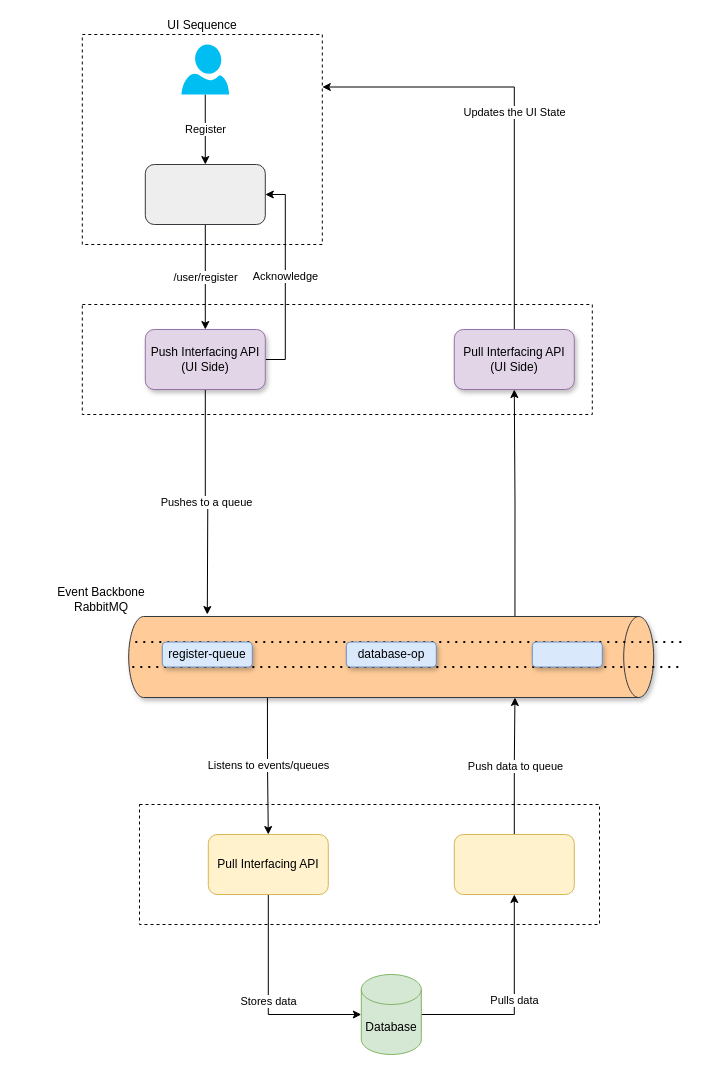
Image size: 704x1072. Some labels were removed from this diagram. The shapes that lost their labels are listed below. From the top down, each one's centre as x and y in pixels, then its label:
At point 204,69: "New User".
At point 204,194: "Fills the form and submit".
At point 567,655: "error-queue".
At point 513,864: "Push Interfacing API".
